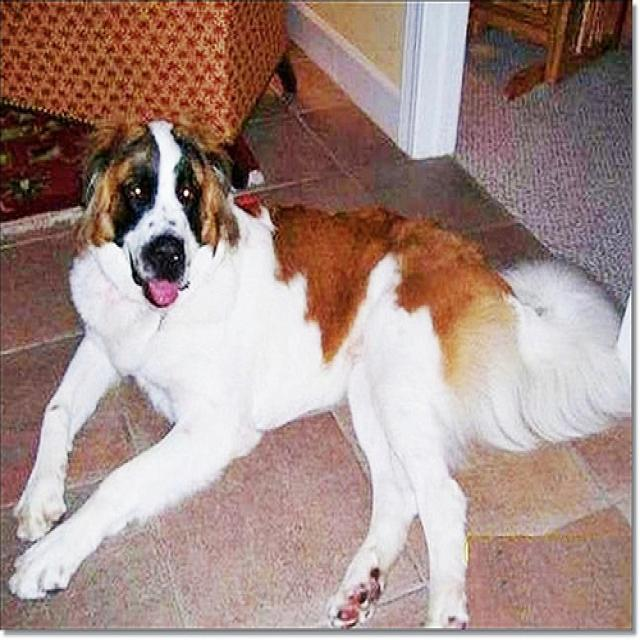dog-saint_bernard: (1, 111, 628, 637)
